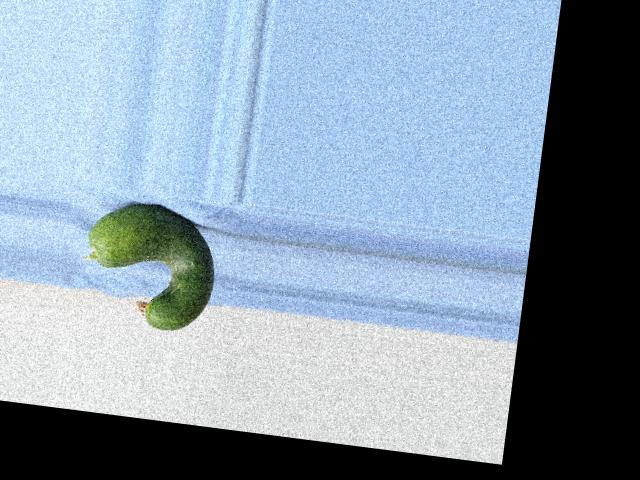cucumber: (77, 197, 222, 335)
